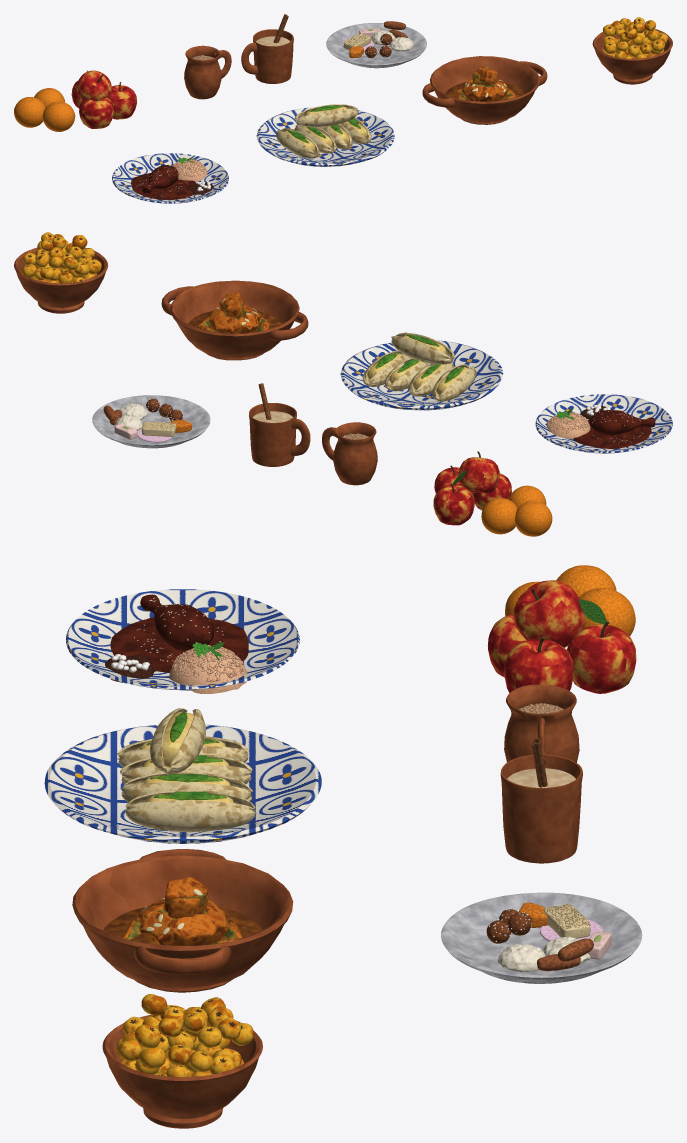
File: platillos_altar.obj
3 renders of one model, top to bottom at view 1: azimuth 30°, elevation 25°; view 2: azimuth 150°, elevation 25°; view 3: azimuth 270°, elevation 25°, orthographic. The views are drawn at different scales.
Parts seen in each view (by area): view 1: DulceCalabaza_Cazuela, Tamales_Plato, Tamales_Hojas, Fruta_Manzanas, Mole_Plato, DulceTejocote_Tejocotes, Dulces_Charola, Atole_Jarro, Fruta_Naranjas, Chocolate_Jarrito, DulceTejocote_Tazon, Mole_Mole (+6 smaller); view 2: DulceCalabaza_Cazuela, Tamales_Plato, Tamales_Hojas, Fruta_Manzanas, Mole_Plato, DulceTejocote_Tejocotes, Atole_Jarro, Dulces_Charola, Fruta_Naranjas, Chocolate_Jarrito, DulceTejocote_Tazon, Mole_Mole (+4 smaller); view 3: DulceCalabaza_Cazuela, Tamales_Plato, Fruta_Manzanas, Tamales_Hojas, Mole_Plato, Dulces_Charola, DulceTejocote_Tejocotes, Atole_Jarro, DulceTejocote_Tazon, Mole_Mole, Chocolate_Jarrito, DulceCalabaza_Calabaza (+10 smaller).
Boxes of the visible parts, x1=… form: DulceCalabaza_Cazuela: x1=422, y1=56, x2=547, y2=124; Tamales_Plato: x1=256, y1=107, x2=394, y2=166; Tamales_Hojas: x1=276, y1=104, x2=371, y2=158; Fruta_Manzanas: x1=71, y1=70, x2=136, y2=128; Mole_Plato: x1=112, y1=153, x2=228, y2=203; DulceTejocote_Tejocotes: x1=602, y1=17, x2=668, y2=58; Dulces_Charola: x1=326, y1=23, x2=426, y2=68; Atole_Jarro: x1=241, y1=29, x2=293, y2=83; Fruta_Naranjas: x1=14, y1=88, x2=75, y2=131; Chocolate_Jarrito: x1=184, y1=45, x2=231, y2=99; DulceTejocote_Tazon: x1=592, y1=29, x2=672, y2=84; Mole_Mole: x1=131, y1=165, x2=196, y2=199; DulceCalabaza_Cazuela: x1=161, y1=280, x2=308, y2=360; Tamales_Plato: x1=340, y1=340, x2=503, y2=410; Tamales_Hojas: x1=362, y1=332, x2=476, y2=401; Fruta_Manzanas: x1=433, y1=457, x2=511, y2=525; Mole_Plato: x1=535, y1=394, x2=672, y2=453; DulceTejocote_Tejocotes: x1=22, y1=232, x2=101, y2=283; Atole_Jarro: x1=249, y1=403, x2=310, y2=466; Dulces_Charola: x1=92, y1=395, x2=210, y2=448; Fruta_Naranjas: x1=481, y1=485, x2=552, y2=536; Chocolate_Jarrito: x1=322, y1=422, x2=377, y2=485; DulceTejocote_Tazon: x1=14, y1=247, x2=108, y2=313; Mole_Mole: x1=573, y1=410, x2=655, y2=448; DulceCalabaza_Cazuela: x1=72, y1=849, x2=293, y2=992; Tamales_Plato: x1=44, y1=724, x2=321, y2=843; Fruta_Manzanas: x1=488, y1=580, x2=636, y2=693; Tamales_Hojas: x1=117, y1=708, x2=256, y2=832; Mole_Plato: x1=66, y1=589, x2=299, y2=690; Dulces_Charola: x1=441, y1=892, x2=642, y2=983; DulceTejocote_Tejocotes: x1=116, y1=994, x2=253, y2=1076; Atole_Jarro: x1=500, y1=749, x2=582, y2=863; DulceTejocote_Tazon: x1=102, y1=1014, x2=262, y2=1128; Mole_Mole: x1=110, y1=594, x2=248, y2=672; Chocolate_Jarrito: x1=504, y1=684, x2=579, y2=762; DulceCalabaza_Calabaza: x1=123, y1=877, x2=242, y2=945.
Bounding box in the file's own units: 1.49 × 0.1575 × 0.6994.
Materials: 38 (38 with a texture image).
